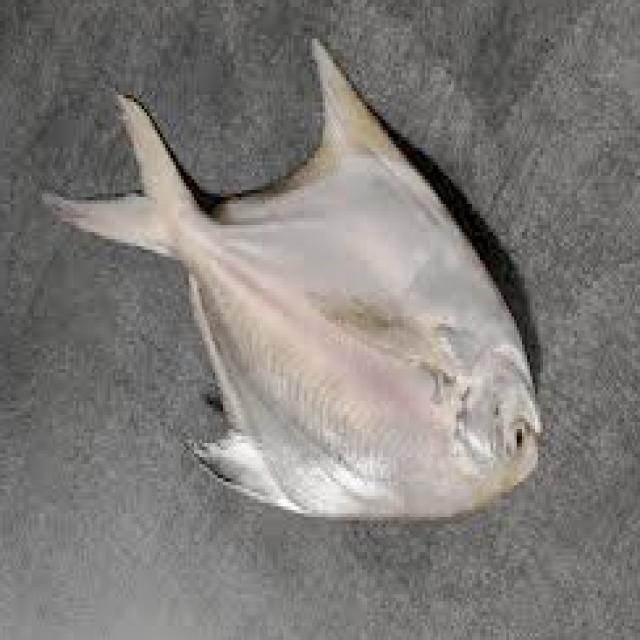pomfred: (48, 43, 537, 523)
